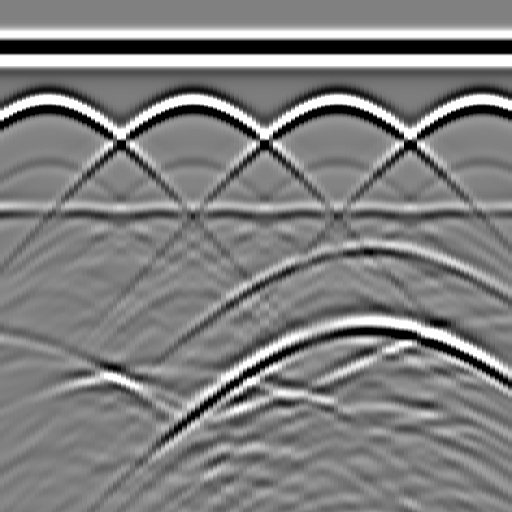grout_surface: (1, 197, 512, 227)
rebar: (26, 83, 66, 123), (170, 83, 210, 123), (315, 83, 355, 123), (459, 83, 499, 123)
rock_surface: (1, 317, 511, 397)
water_void: (337, 223, 397, 263)
